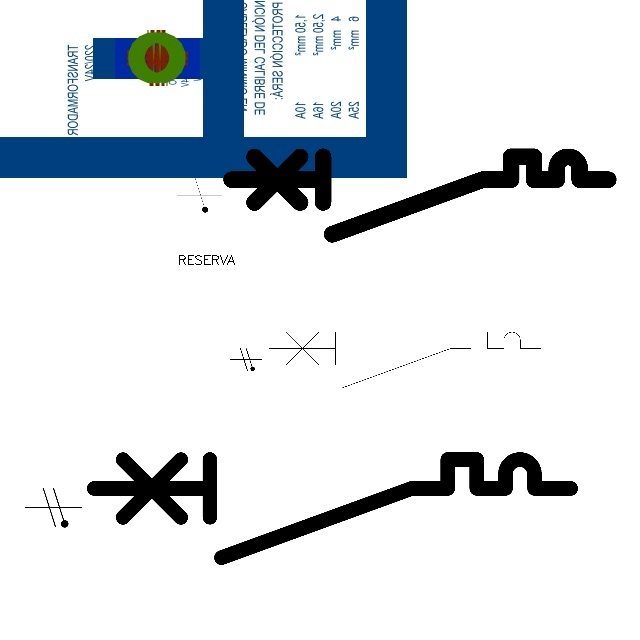interruptor_termomagnetico: (81, 447, 583, 570), (221, 147, 617, 244), (262, 325, 548, 395)
